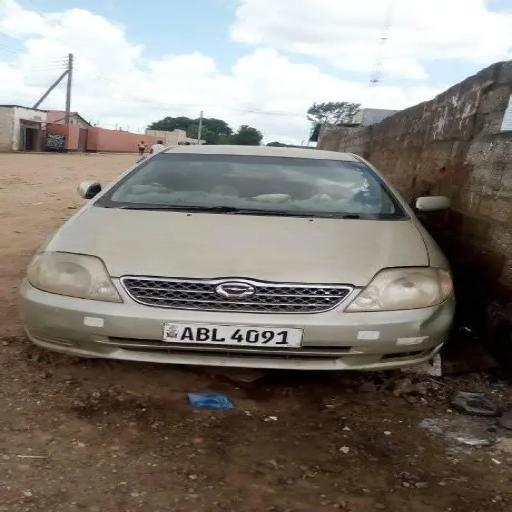number-plates: (161, 319, 308, 345)
